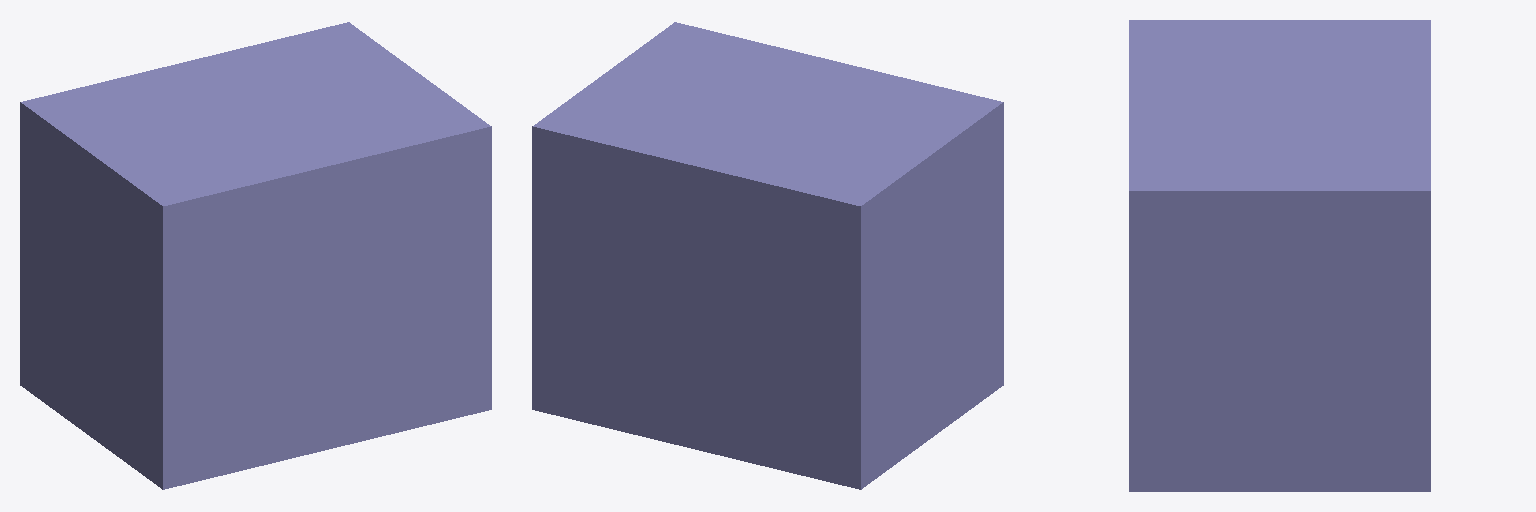
robot.urdf — box.urdf:
<?xml version="1.0" ?>
<robot name="box.urdf">
  <link name="baseLink">
    <contact>
      <lateral_friction value="1.0"/>
      <rolling_friction value="0.0001"/>
      <inertia_scaling value="3.0"/>
    </contact>
    <inertial>
      <origin rpy="0 0 0" xyz="0 0 0"/>
       <mass value="0.1"/>
       <inertia ixx="1" ixy="0" ixz="0" iyy="1" iyz="0" izz="1"/>
    </inertial>
    <visual>
      <origin rpy="0 0 0" xyz="0 0 0"/>
      <geometry>
        <!-- <box size="0.29100000000000004 0.21899999999999997 0.24"/> -->
        <mesh filename="box/box.obj" scale="0.29100000000000004 0.21899999999999997 0.24"/>
      </geometry>
      <material name="white">
        <color rgba="0.6 0.6 0.8 1"/>
      </material>
    </visual>
    <collision>
      <origin rpy="0 0 0" xyz="0 0 0"/>
      <geometry>
        <mesh filename="box/box.obj" scale="0.29100000000000004 0.21899999999999997 0.24"/>
	 	    <!-- <box size="0.29100000000000004 0.21899999999999997 0.24"/> -->
      </geometry>
    </collision>
  </link>
</robot>

--- Facts derived from the render (not from the file) ---
Views: 3 orthographic renders of the robot side by side, from view 1: azimuth 30°, elevation 25°; view 2: azimuth 150°, elevation 25°; view 3: azimuth 270°, elevation 25°.
Model box.urdf with 1 links and 0 joints (none), rooted at baseLink, posed all joints at 0.
Links seen in each view (by area): view 1: baseLink; view 2: baseLink; view 3: baseLink.
Boxes of the visible links, left/top/right/bottom form: baseLink: left=20, top=22, right=491, bottom=489; baseLink: left=532, top=22, right=1003, bottom=489; baseLink: left=1129, top=20, right=1430, bottom=491.
Bounding box of the posed robot: 0.291 × 0.219 × 0.24 m (x, y, z).
1 mesh visuals loaded from 1 distinct referenced files (1 OBJ).
